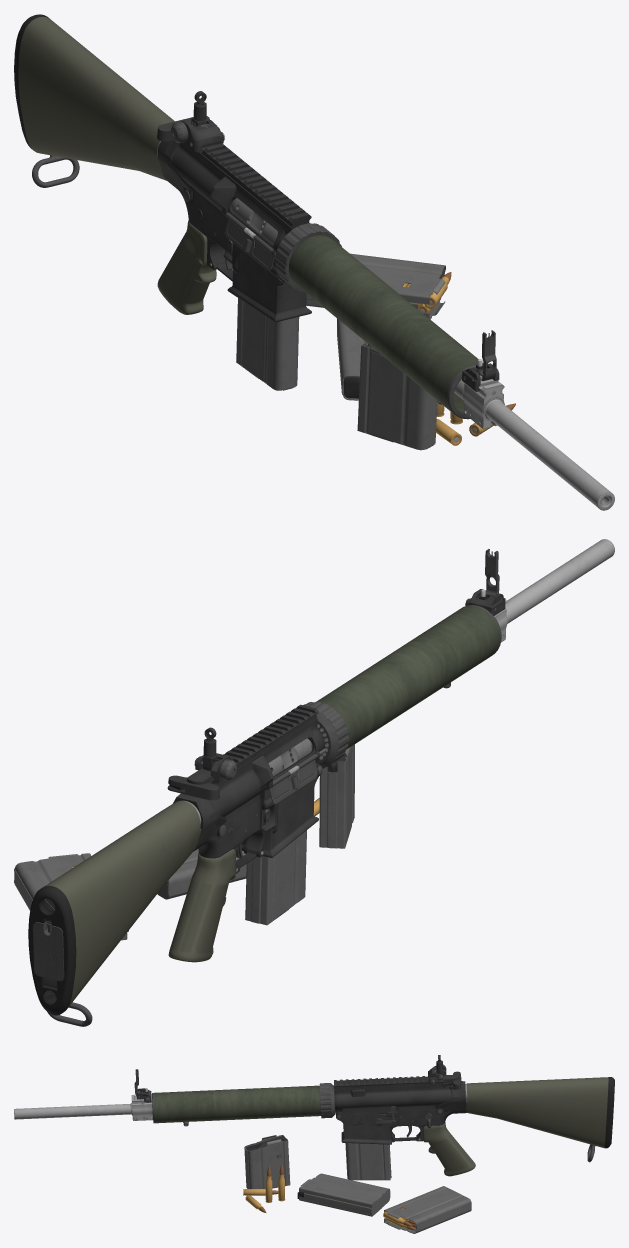
Rendered from armalite_ar-10t_battle_rifle.glb.
3 renders of one model, top to bottom at view 1: azimuth 30°, elevation 25°; view 2: azimuth 150°, elevation 25°; view 3: azimuth 270°, elevation 25°, orthographic. The views are drawn at different scales.
Parts seen in each view (by area): view 1: ar-10t, mag_short, mag, mag_loaded, kac_sights, mag_empty, bullets; view 2: ar-10t, mag, mag_short, kac_sights, mag_loaded, mag_empty; view 3: ar-10t, mag_empty, mag_loaded, mag_short, mag, bullets, kac_sights.
Part boxes in pixels (<box>): ar-10t: <box>14,14,614,510</box>; mag_short: <box>357,342,437,450</box>; mag: <box>236,298,299,390</box>; mag_loaded: <box>306,253,451,319</box>; kac_sights: <box>170,91,499,391</box>; mag_empty: <box>337,318,367,400</box>; bullets: <box>436,401,515,445</box>; ar-10t: <box>28,539,614,1026</box>; mag: <box>245,830,306,925</box>; mag_short: <box>319,744,354,848</box>; kac_sights: <box>194,549,505,783</box>; mag_loaded: <box>14,853,128,940</box>; mag_empty: <box>157,849,246,899</box>; ar-10t: <box>14,1071,614,1176</box>; mag_empty: <box>297,1173,390,1216</box>; mag_loaded: <box>383,1186,471,1233</box>; mag_short: <box>244,1135,290,1188</box>; mag: <box>345,1143,391,1180</box>; bullets: <box>243,1164,285,1212</box>; kac_sights: <box>134,1055,446,1102</box>.
Bounding box in the file's own units: 2.27 × 2 × 8.88.
Materials: 4 (4 with a texture image).
